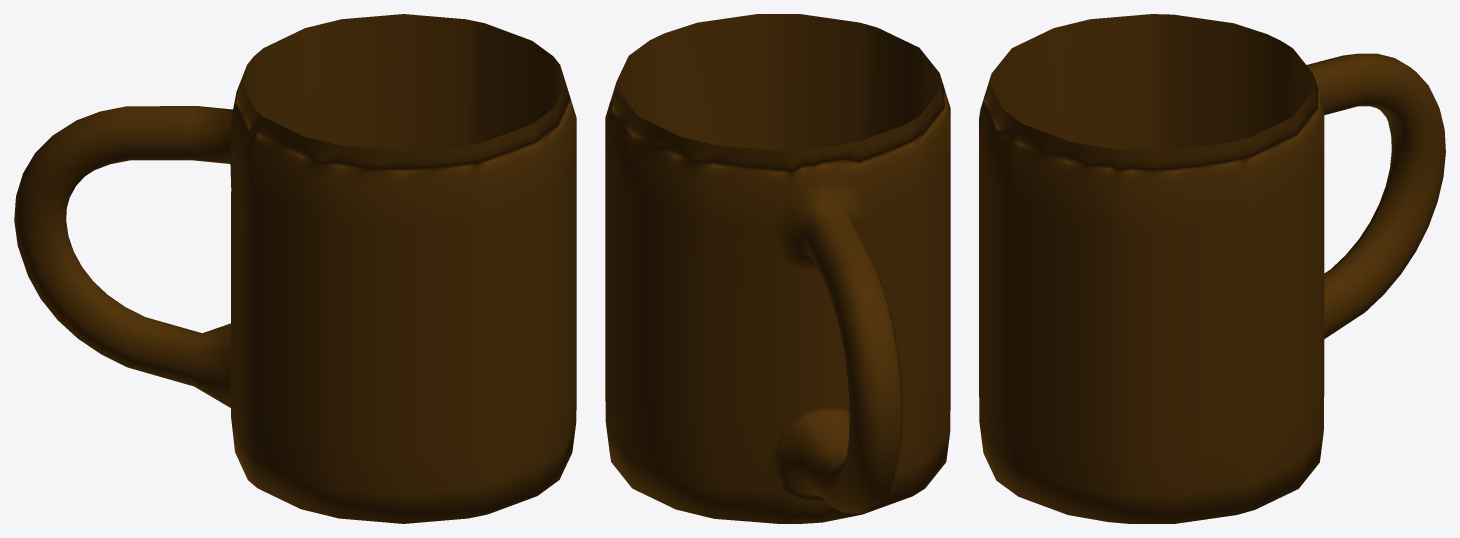
The model's file is DrinkingVessel.fbx.
The picture shows the model from 3 angles, left to right: view 1: azimuth 30°, elevation 25°; view 2: azimuth 150°, elevation 25°; view 3: azimuth 270°, elevation 25°; orthographic projection.
Visible parts, largest first — view 1: pCylinder1; view 2: pCylinder1; view 3: pCylinder1.
Part boxes in pixels (x1,y1,x2,y2): pCylinder1: [14, 14, 576, 523]; pCylinder1: [605, 14, 950, 523]; pCylinder1: [979, 14, 1445, 523].
Bounding box in the file's own units: 11.1 × 10.16 × 11.13.
